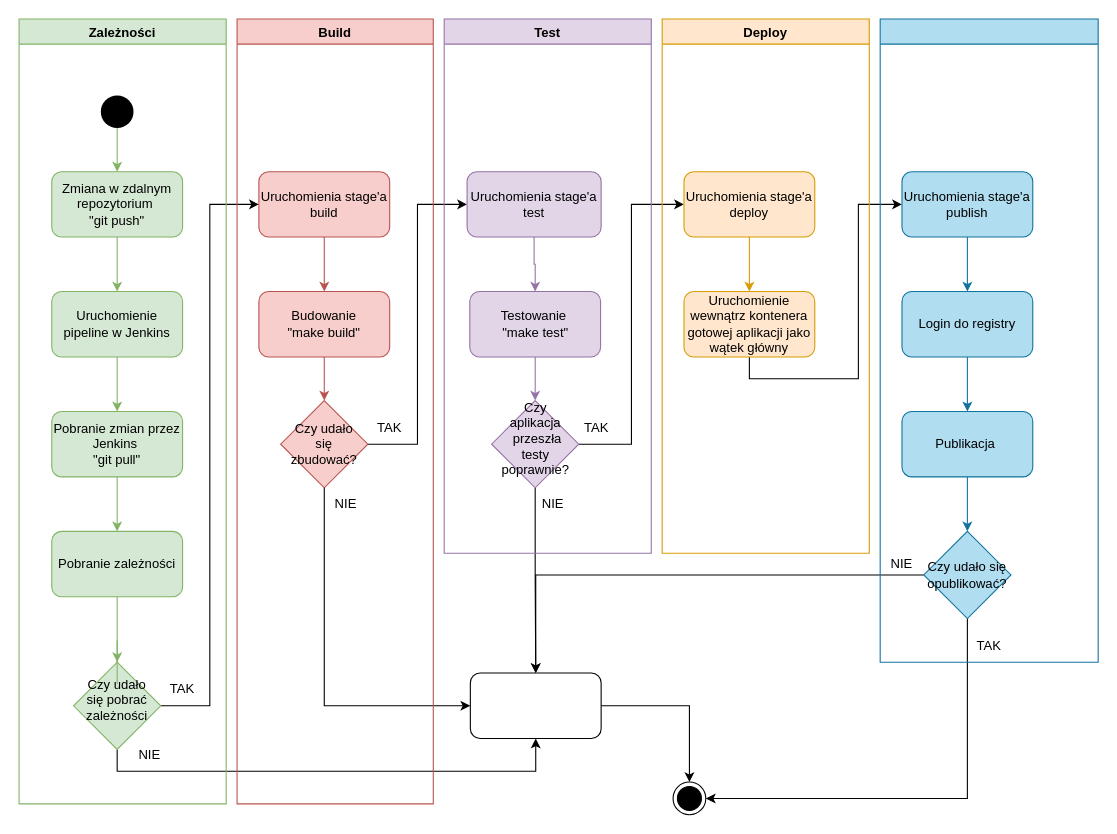
This 1117x834 diagram has some shape labels left out. The shapes that lost their labels are listed below. From the top down, each one's centre as x and y in pixels, then its label:
the point at 988,340: Publish
the point at 535,705: Błędy wydrukowane w logach
